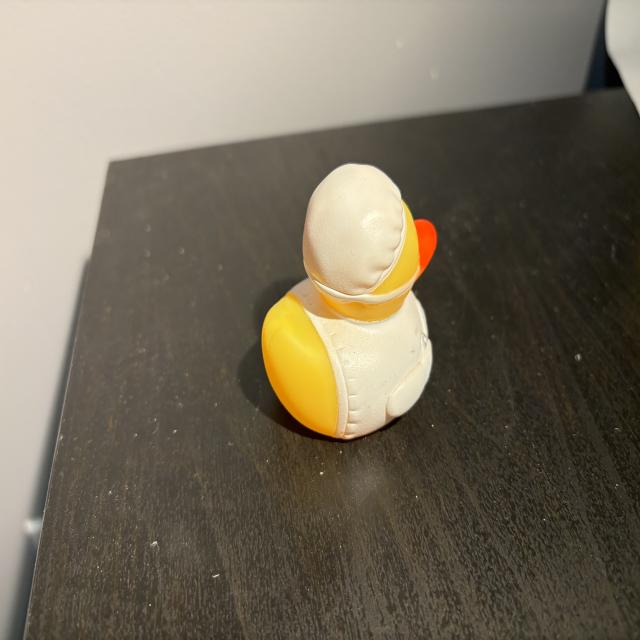duck_specialty: (265, 162, 438, 442)
